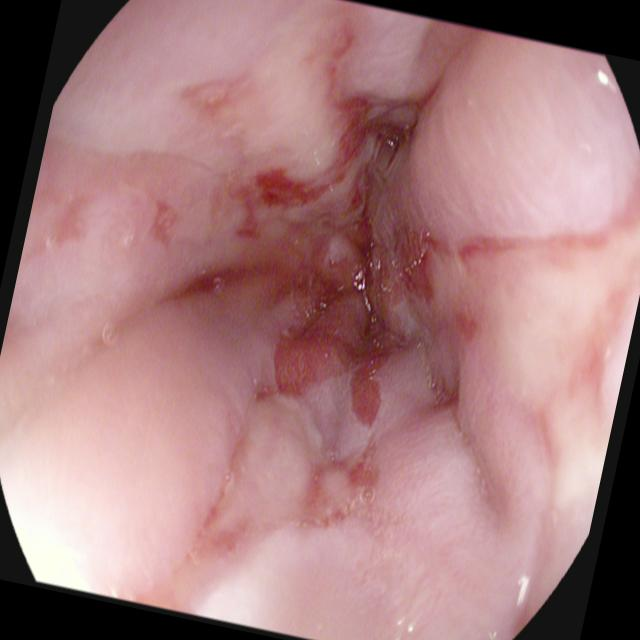esophagitis: (127, 29, 640, 576)
